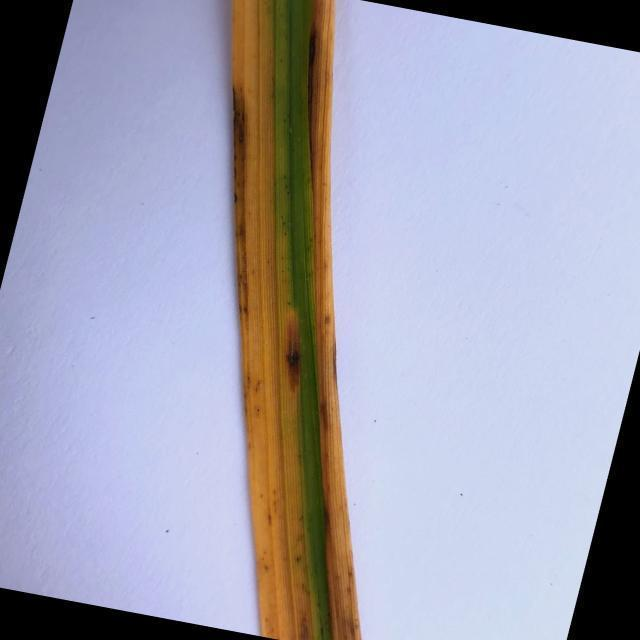Rice Tungro: (229, 0, 365, 640)
